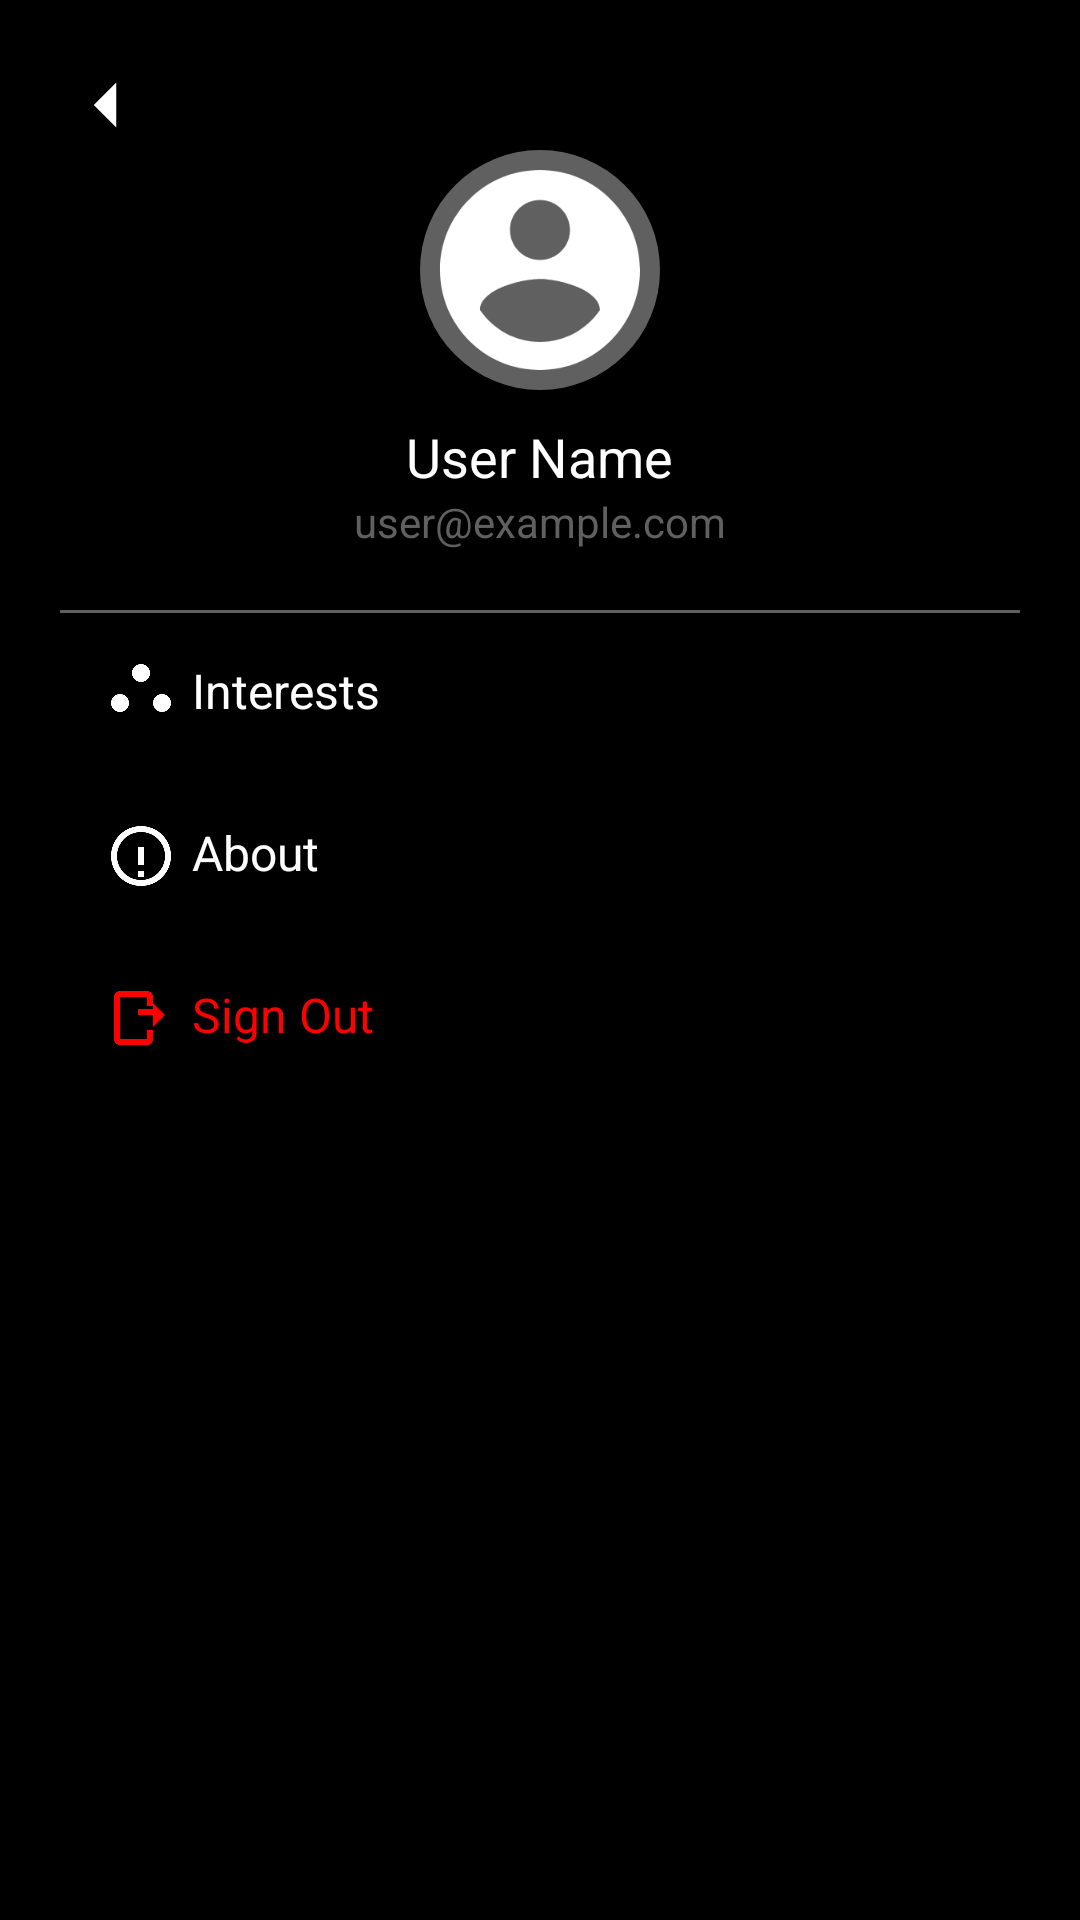

Screen size 1080×1920. Icon name, then its box in pixels as Rect(x1, y1, x2, y2):
Back: Rect(94, 83, 117, 127)
profile: Rect(420, 150, 660, 390)
